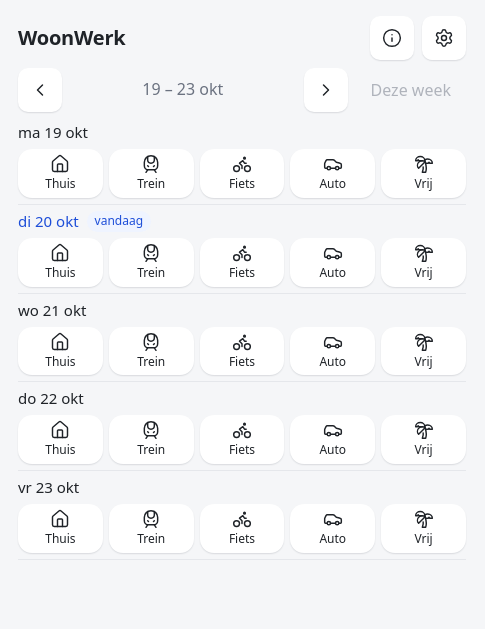
it: AC23: Thuis staat altijd aan › heeft een inactieve, aangezette knop Thuis
Click the button named "Instellingen en backup" at (444, 38), box left=422, top=16, right=466, bottom=60
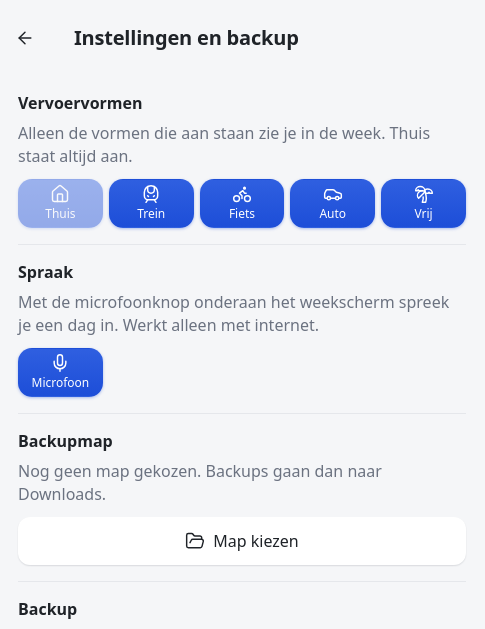
Check: the button "Thuis" is disabled, box left=18, top=179, right=103, bottom=228
